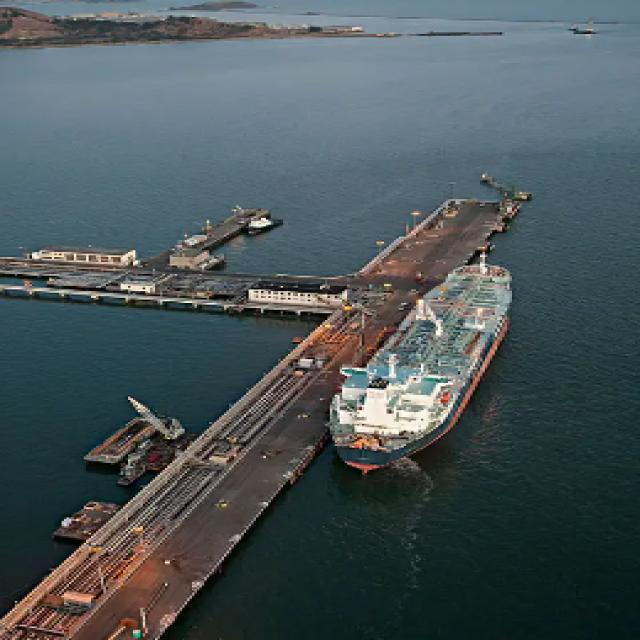cargoship: (340, 249, 520, 467)
